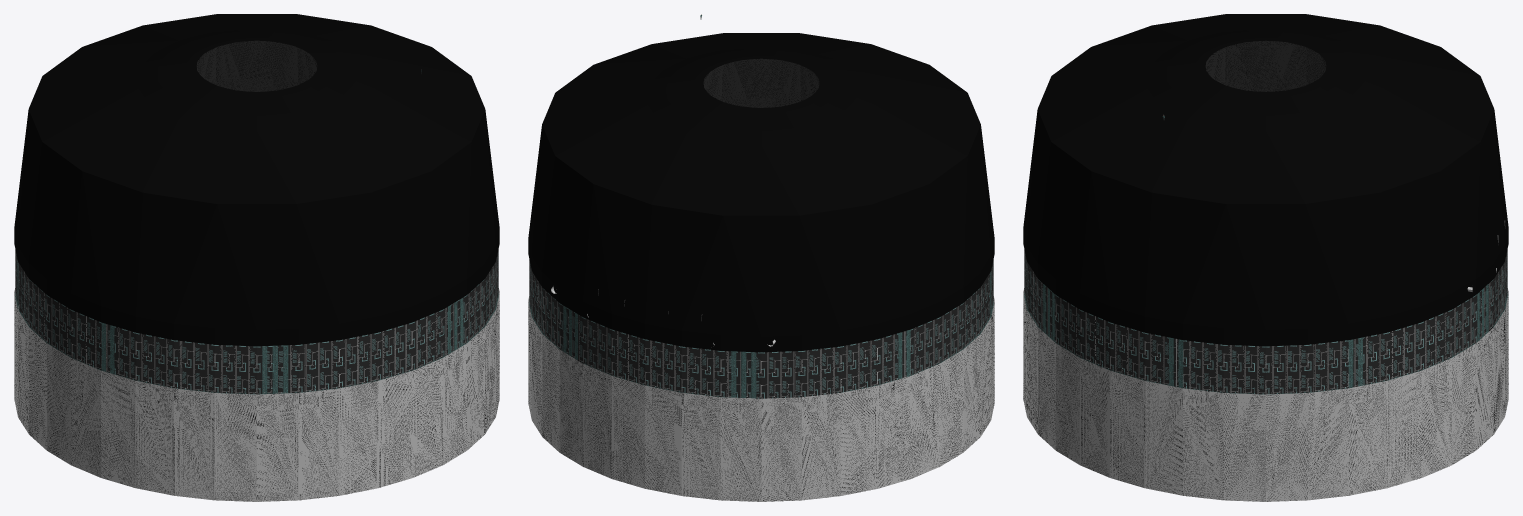
Rendered from haltmannroom3.dae.
3 renders of one model, left to right at view 1: azimuth 30°, elevation 25°; view 2: azimuth 150°, elevation 25°; view 3: azimuth 270°, elevation 25°, orthographic. The views are drawn at different scales.
Visible parts, largest first — view 1: skpEC20 (×7); view 2: skpEC20 (×7); view 3: skpEC20 (×8).
Boxes of the visible parts, x1=… form: skpEC20 (×7): x1=14, y1=14, x2=499, y2=501; skpEC20 (×7): x1=528, y1=33, x2=994, y2=501; skpEC20 (×8): x1=1023, y1=14, x2=1508, y2=501.
Size of the model in its own units: 5226 by 5226 by 4107.
19 materials, 3 textured.
